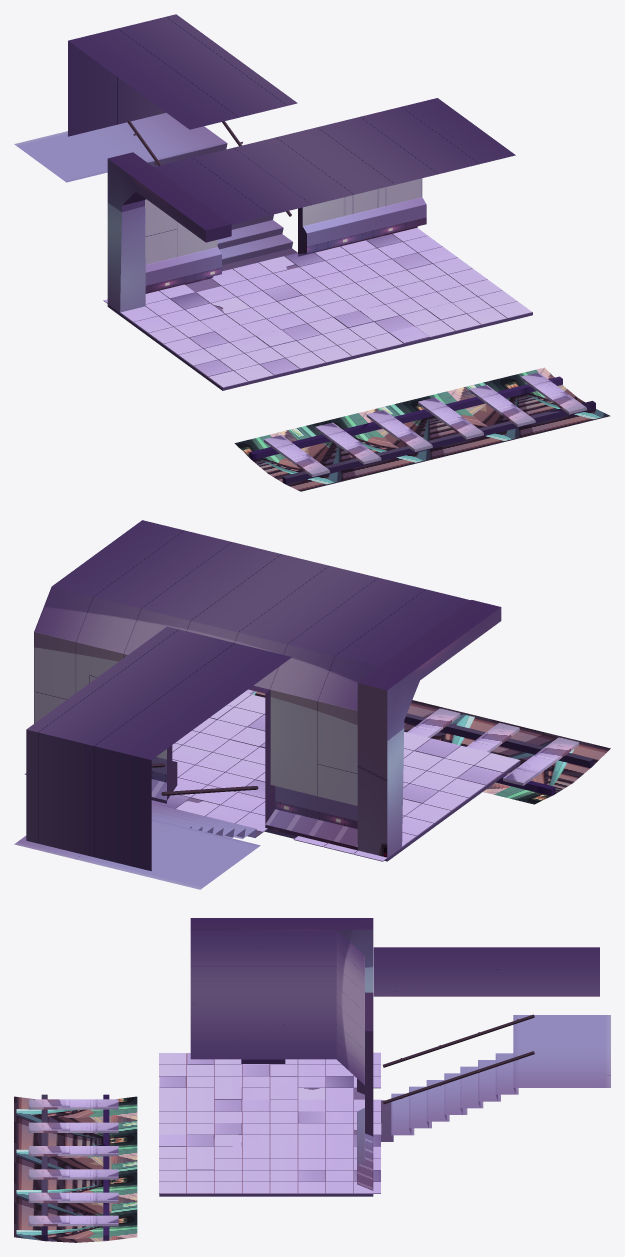
Rendered from pared_y_suelo_2.fbx.
3 views of the same model, one above another, from view 1: azimuth 30°, elevation 25°; view 2: azimuth 150°, elevation 25°; view 3: azimuth 270°, elevation 25° (orthographic). The views are drawn at different scales.
Visible parts, largest first — view 1: Cube.016; view 2: Cube.016; view 3: Cube.016.
Part boxes in pixels (x1,y1,x2,y2): Cube.016: (14,14,610,491); Cube.016: (14,520,610,889); Cube.016: (14,918,610,1242).
Size of the model in its own units: 427 by 271 by 765.
